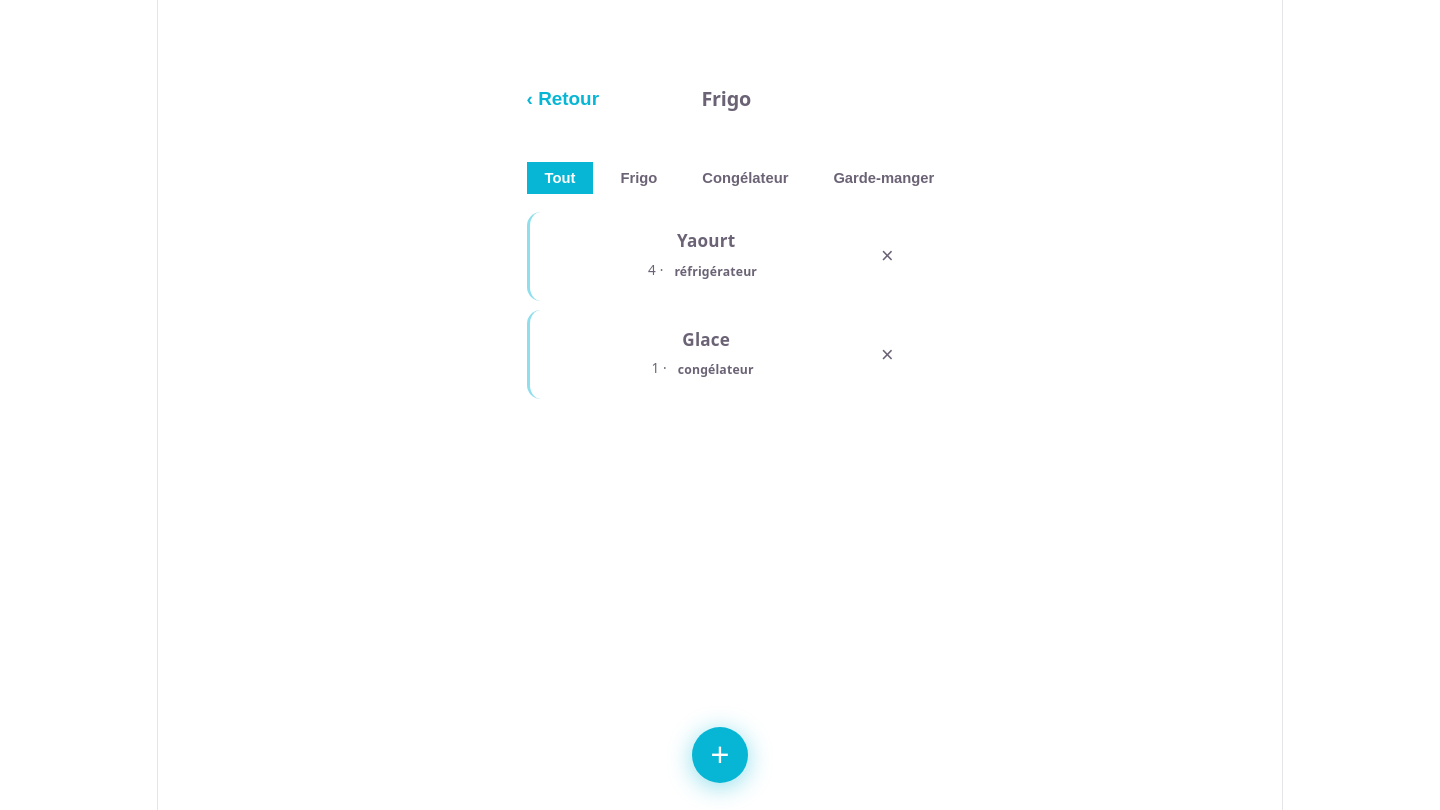
FrigoPage › filters by emplacement when pill is clicked
Click the button "Congélateur": (745, 178) [684, 162, 806, 194]
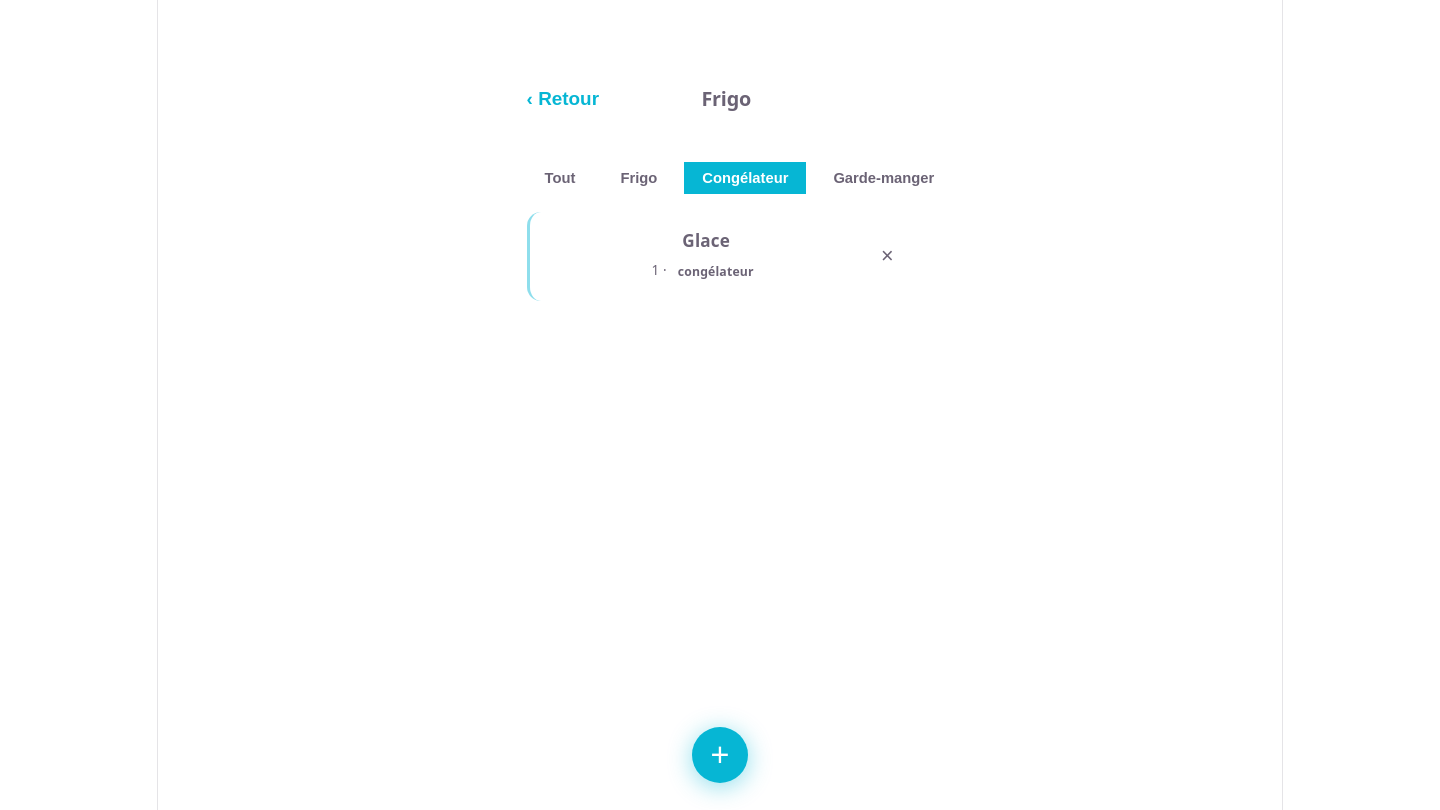
Expected: the text "Glace" is shown, [682, 230, 730, 252]
Result: the text "Yaourt" is gone
